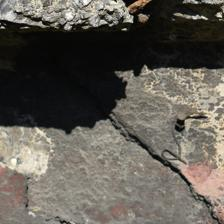Crack: (80, 0, 224, 130), (58, 33, 166, 92)
